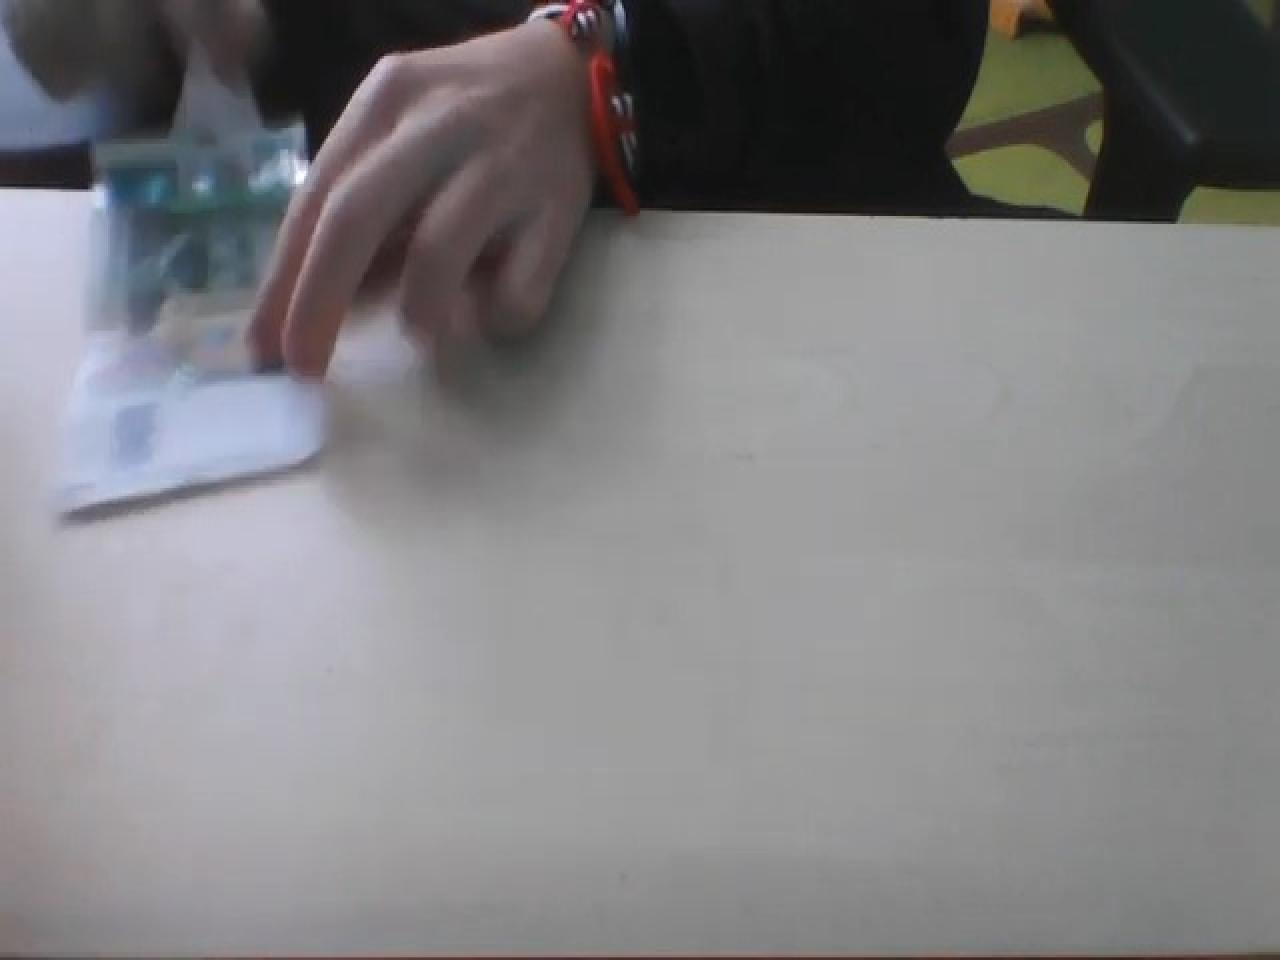100leva: (48, 125, 330, 522)
